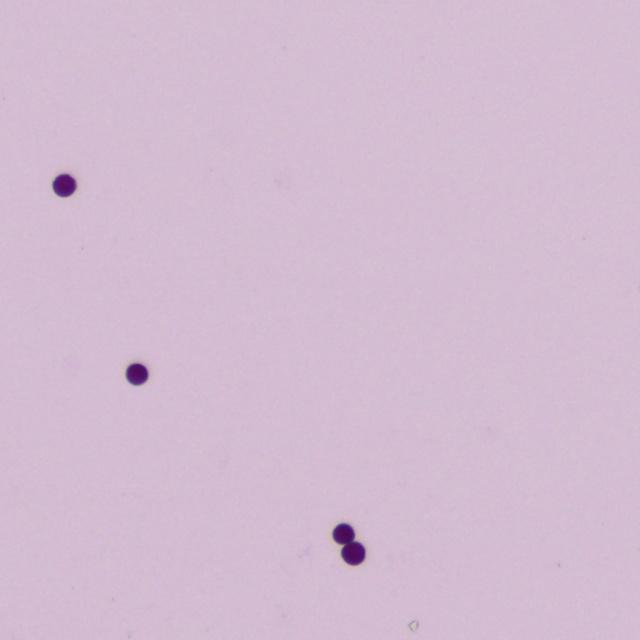viable: (341, 541, 365, 565), (53, 174, 75, 196), (126, 363, 148, 385), (333, 523, 354, 544)
